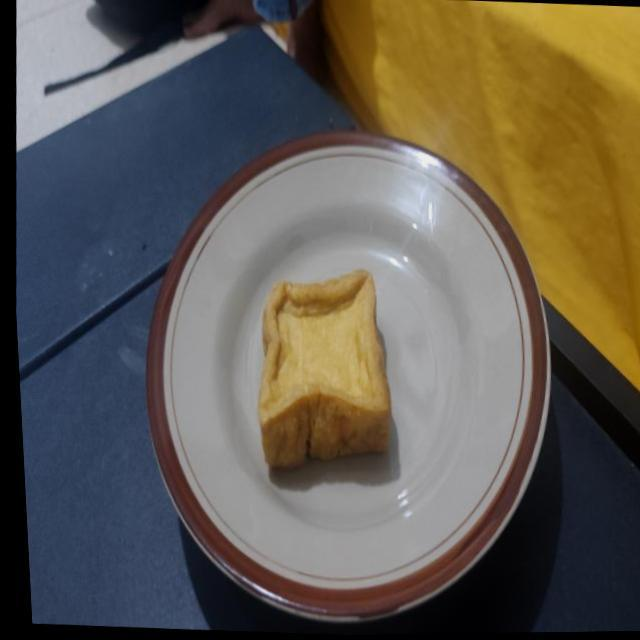tahu_goreng: (258, 270, 391, 467)
